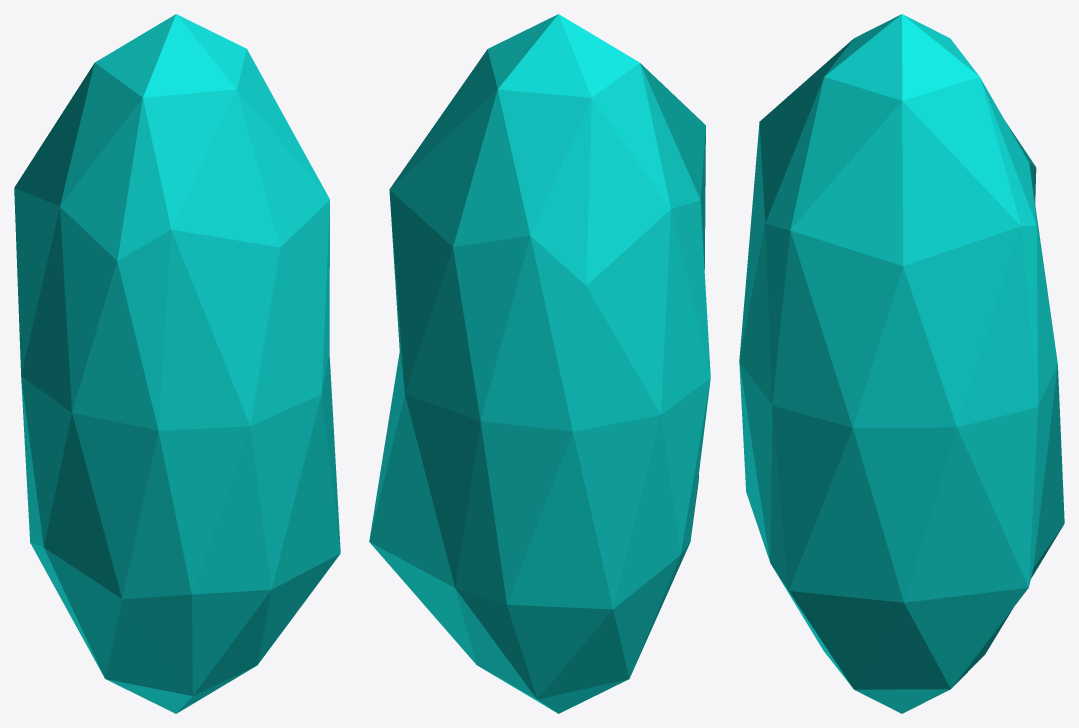
File: collect2.fbx
3 renders of one model, left to right at view 1: azimuth 30°, elevation 25°; view 2: azimuth 150°, elevation 25°; view 3: azimuth 270°, elevation 25°, orthographic.
Parts seen in each view (by area): view 1: Icosphere; view 2: Icosphere; view 3: Icosphere.
Boxes of the visible parts, bbox=[...] form: Icosphere: bbox=[14, 14, 340, 713]; Icosphere: bbox=[369, 14, 710, 713]; Icosphere: bbox=[739, 14, 1064, 713].
Bounding box in the file's own units: 81.33 × 209 × 88.11.
